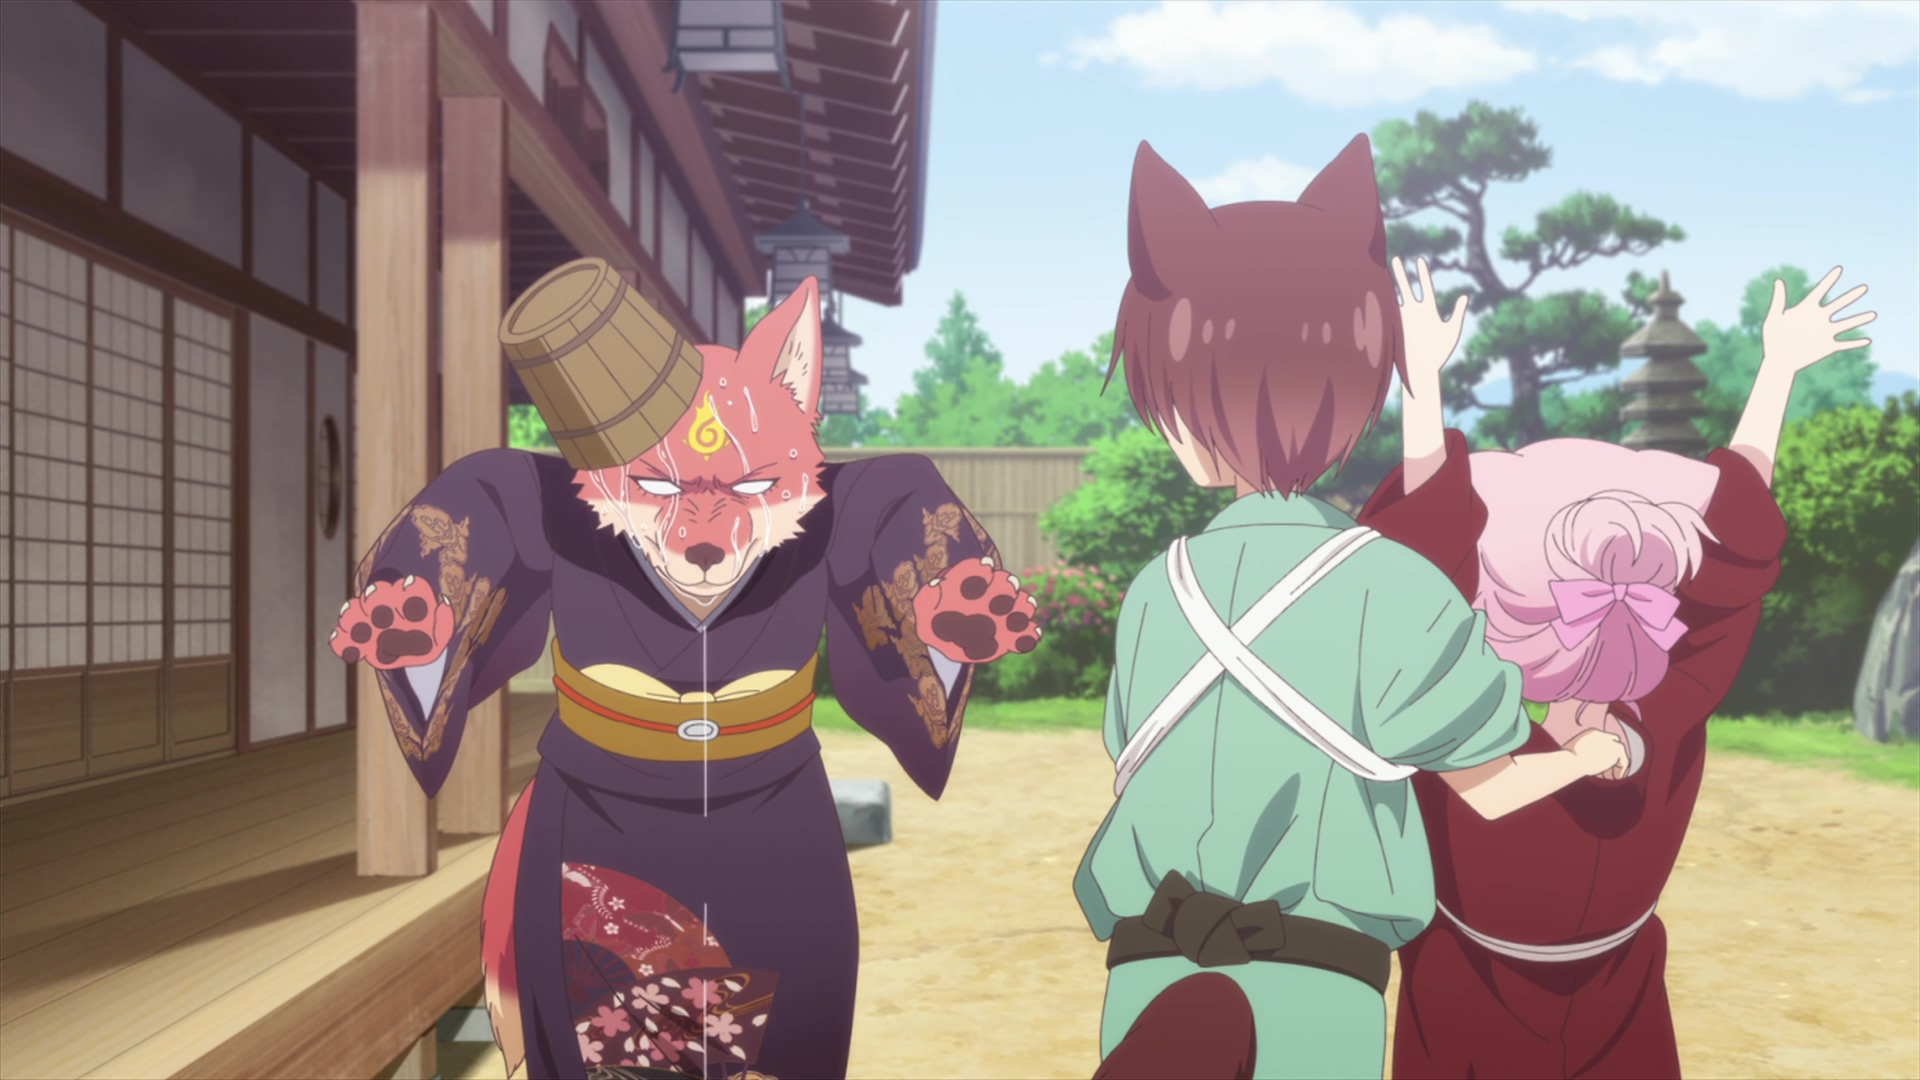枣: (1073, 135, 1629, 1080)
椿: (328, 257, 1042, 1080)
莲: (1352, 257, 1878, 1080)
